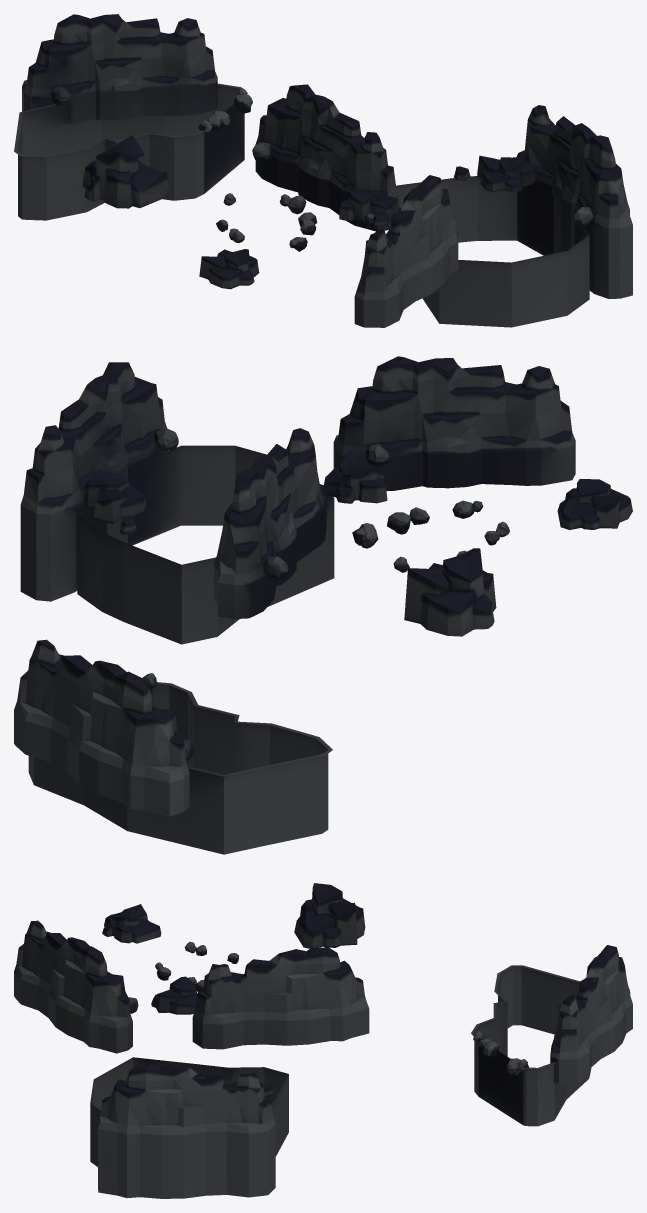
File: Wall_01.FBX
3 views of the same model, one above another, from view 1: azimuth 30°, elevation 25°; view 2: azimuth 150°, elevation 25°; view 3: azimuth 270°, elevation 25° (orthographic). The views are drawn at different scales.
Parts seen in each view (by area): view 1: Wall_01; view 2: Wall_01; view 3: Wall_01.
Part boxes in pixels (x1,y1,x2,y2): Wall_01: (14,14,632,327); Wall_01: (14,356,632,854); Wall_01: (14,883,632,1198).
Bounding box in the file's own units: 37.69 × 14.31 × 52.25.
